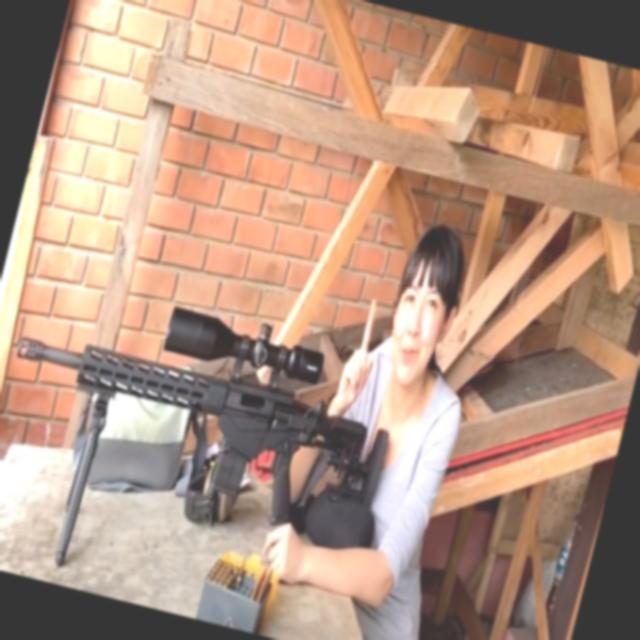rifle: (0, 257, 413, 640)
